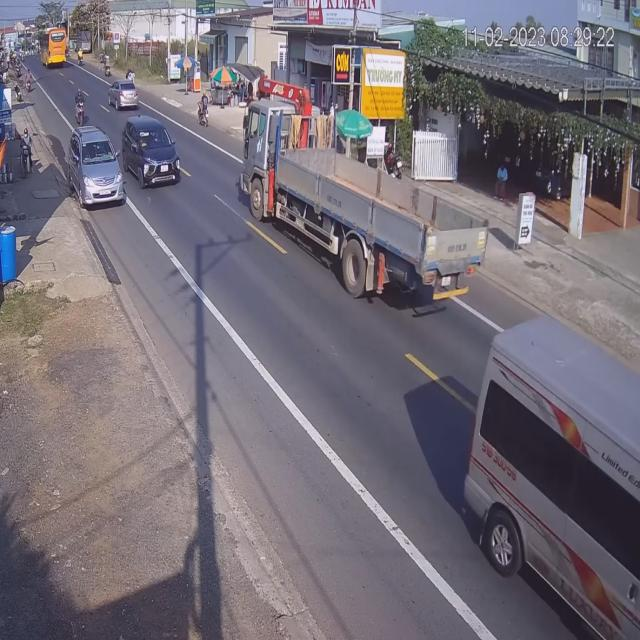bus: (466, 311, 638, 636), (42, 28, 68, 68)
car: (68, 126, 124, 208), (120, 117, 180, 191), (107, 79, 137, 113)
motorbike: (75, 91, 86, 125), (199, 97, 210, 127)
truck: (239, 90, 490, 305)
